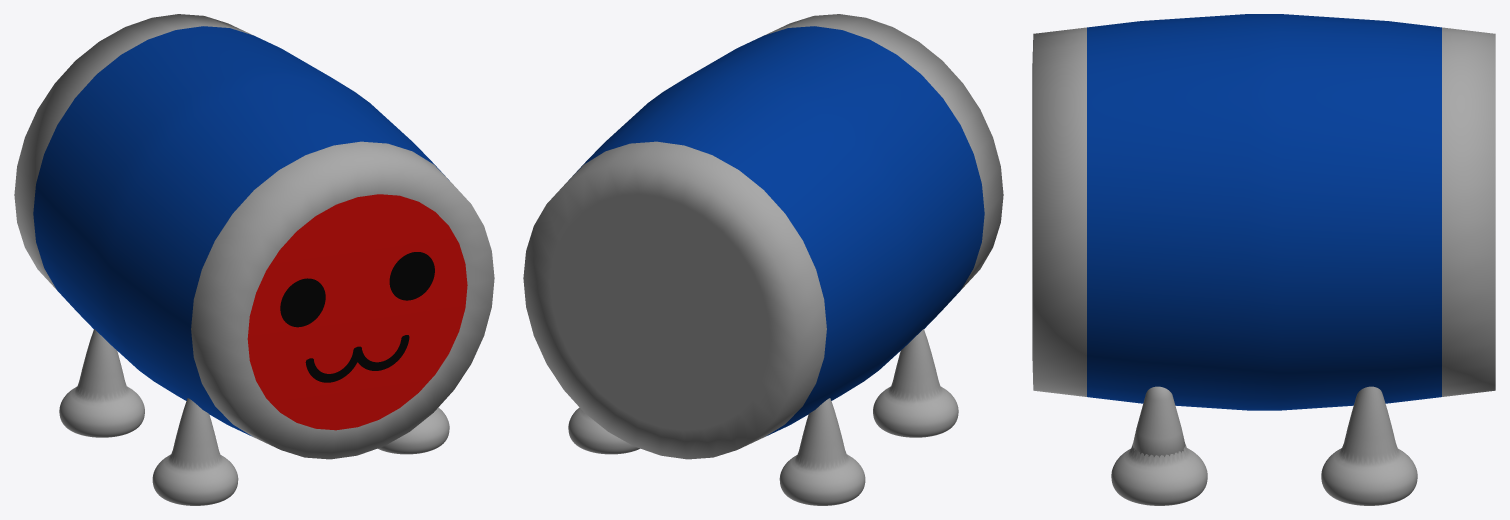
File: wadadon.obj
3 views of the same model, side by side, from view 1: azimuth 30°, elevation 25°; view 2: azimuth 150°, elevation 25°; view 3: azimuth 270°, elevation 25° (orthographic). The views are drawn at different scales.
Parts seen in each view (by area): view 1: Body_Cylinder, Feet_Sphere, Eyes_Circle.001, Mouth_Circle.003; view 2: Body_Cylinder, Feet_Sphere; view 3: Body_Cylinder, Feet_Sphere, Leg_Cone.001.
Part boxes in pixels (x1,y1,x2,y2): Body_Cylinder: (14,14,494,459); Feet_Sphere: (59,329,449,505); Eyes_Circle.001: (280,252,434,327); Mouth_Circle.003: (305,335,409,382); Body_Cylinder: (523,14,1003,459); Feet_Sphere: (568,329,958,505); Body_Cylinder: (1032,14,1495,410); Feet_Sphere: (1111,386,1417,505); Leg_Cone.001: (1132,386,1185,457).
Bounding box in the file's own units: 2 × 2.22 × 2.33.
